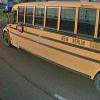Bus: (8, 1, 99, 88)
